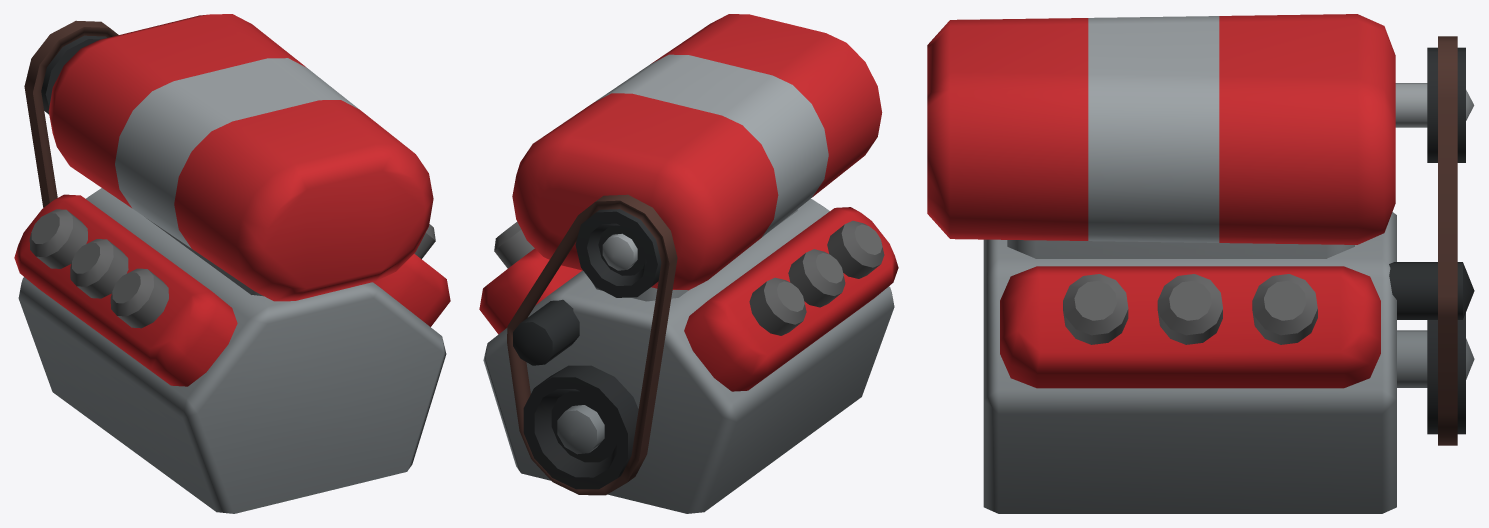
Rendered from Car_05_Engine.fbx.
The picture shows the model from 3 angles, left to right: view 1: azimuth 30°, elevation 25°; view 2: azimuth 150°, elevation 25°; view 3: azimuth 270°, elevation 25°; orthographic projection. The views are drawn at different scales.
Parts seen in each view (by area): view 1: Car_05_Engine; view 2: Car_05_Engine; view 3: Car_05_Engine.
Part boxes in pixels (box(x1,y1,x2,y2)): Car_05_Engine: box(14, 14, 450, 513); Car_05_Engine: box(479, 14, 898, 513); Car_05_Engine: box(927, 14, 1474, 513).
Size of the model in its own units: 73.58 by 94.45 by 77.86.
